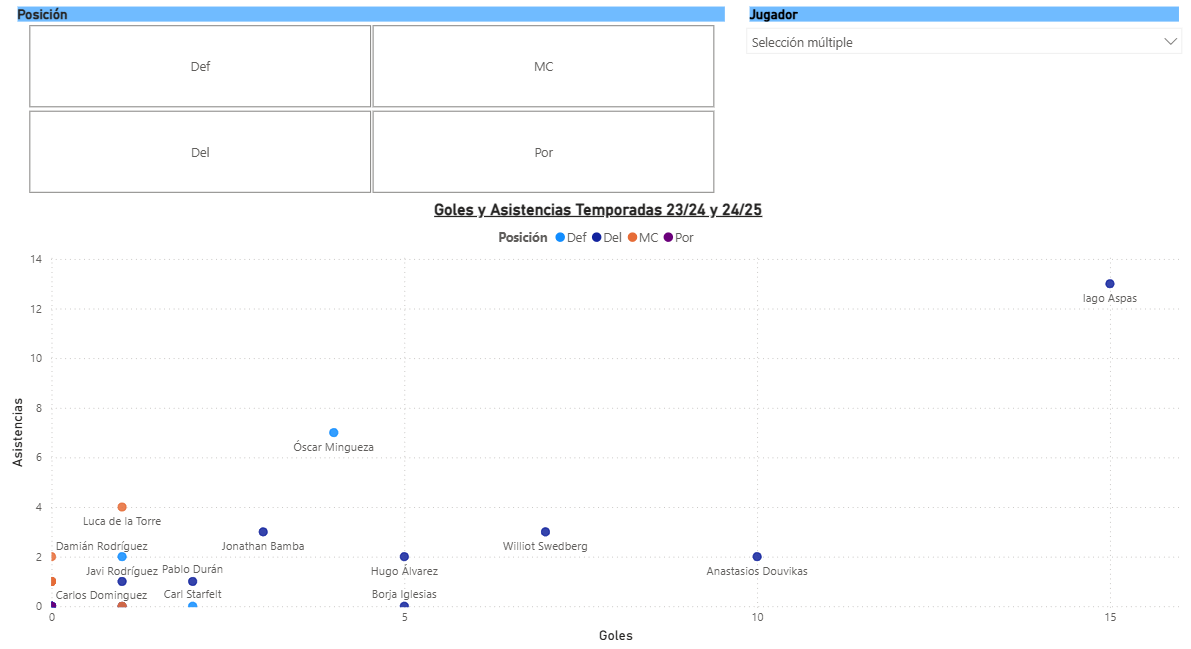

What the dashboard file says about the page in this screenshot:
{"tool":"powerbi","page":{"name":"Gls+Ass Jugadores","canvas":[1280,720],"ordinal":2},"visuals":[{"type":"slicer","fields":{"Values":["Jugadores Anexados.posición agrupada"]},"box":[9.5,11.1,776.2,210],"z":0},{"type":"slicer","fields":{"Values":["Jugadores Anexados.Jugador"]},"box":[785.8,11.1,482,210],"z":1000},{"type":"scatterChart","title":"Goles y Asistencias Temporadas 23/24 y 24/25","fields":{"Category":["Jugadores Anexados.Jugador"],"X":["Sum(Jugadores Anexados.Gls.)"],"Y":["Sum(Jugadores Anexados.Ass)"],"Series":["Jugadores Anexados.posición agrupada"]},"box":[9.5,221.1,1258.2,474],"z":2000}]}

Visuals, with their boxes on the page's 1280x720 design canvas (x1, y1, x2, y2). These are canvas units, not pixel positions in the 1191x649 screenshot, which may show the page scaled, cropped or inside an application window:
slicer - Jugadores Anexados.posición agrupada: x1=10, y1=11, x2=786, y2=221
slicer - Jugadores Anexados.Jugador: x1=786, y1=11, x2=1268, y2=221
"Goles y Asistencias Temporadas 23/24 y 24/25" scatterChart: x1=10, y1=221, x2=1268, y2=695
